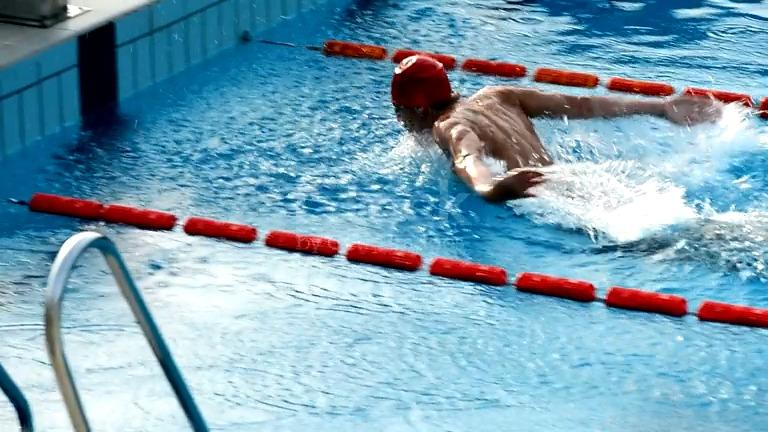Swimming: (326, 22, 712, 269)
